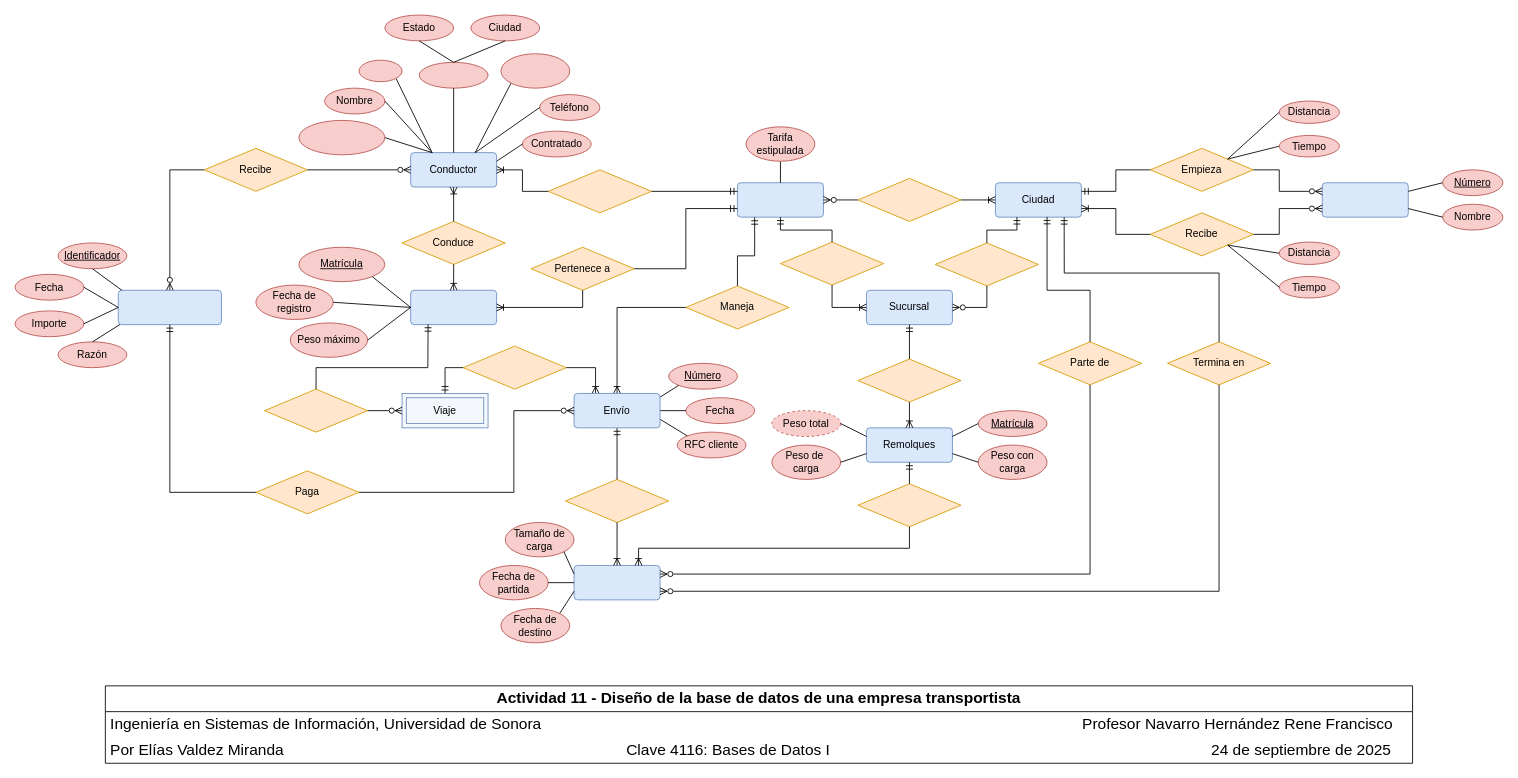
The diagram is 1518 pixels wide and 778 high, and some of its shapes have lost their labels. Each missing label, with the centre of its shape:
Almacena: [909,380]
Camión: [453,307]
Carretera: [1364,199]
Contiene: [617,500]
Contratado por: [599,191]
Dirección: [453,74]
Empresa: [780,199]
Línea de envío: [616,582]
Maneja por: [909,505]
Movimiento de caja: [169,307]
Número de conductor: [341,137]
Opera en: [909,199]
Realiza: [316,410]
RFC: [380,70]
Se encuentra en: [986,264]
Tarifa de costo: [535,70]
Tiene: [832,263]
Transporta: [514,367]
